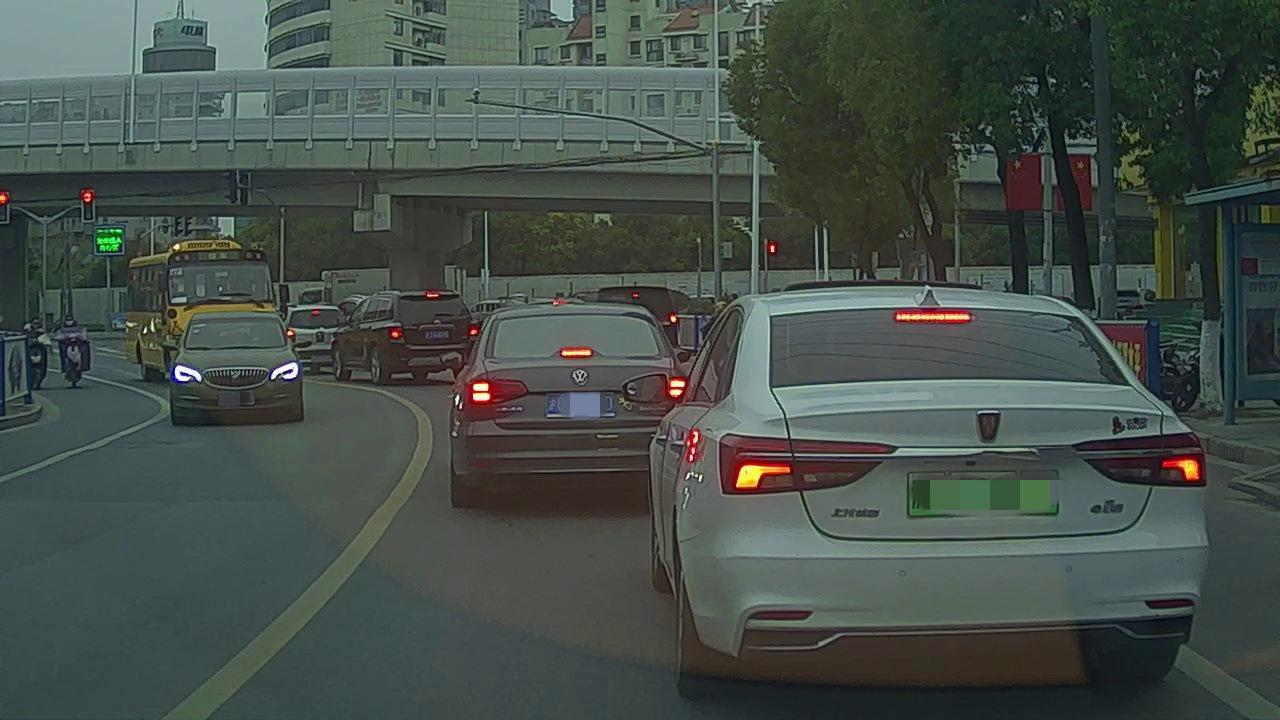traffic_light: (82, 193, 93, 221)
